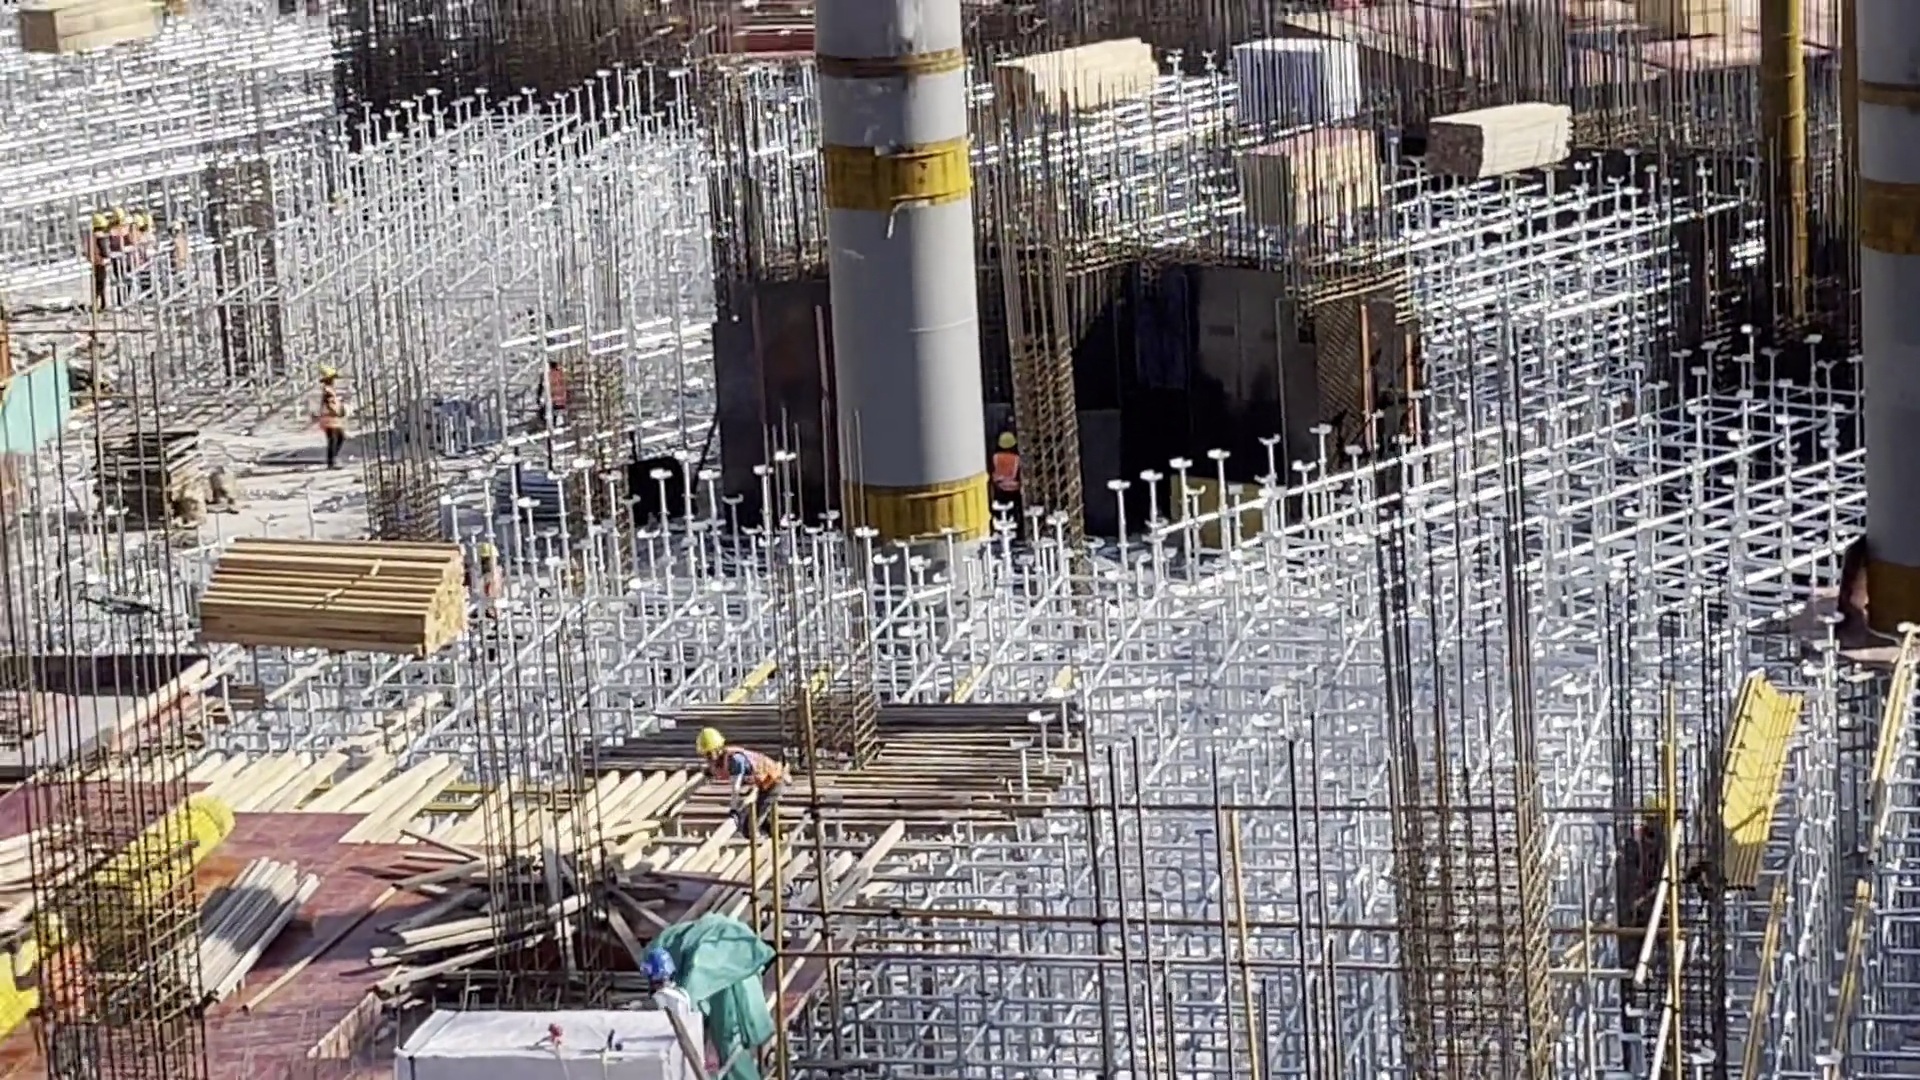helmet: (635, 951, 681, 981), (695, 729, 718, 755), (996, 430, 1018, 448), (318, 364, 338, 380), (88, 213, 109, 228), (110, 209, 126, 221)
person: (686, 729, 787, 850), (318, 365, 349, 467), (534, 351, 571, 435), (988, 431, 1022, 504), (83, 217, 110, 310), (110, 208, 133, 286), (129, 212, 149, 245)
vest: (730, 747, 786, 791), (988, 452, 1022, 493), (317, 388, 344, 432), (87, 232, 109, 266)
